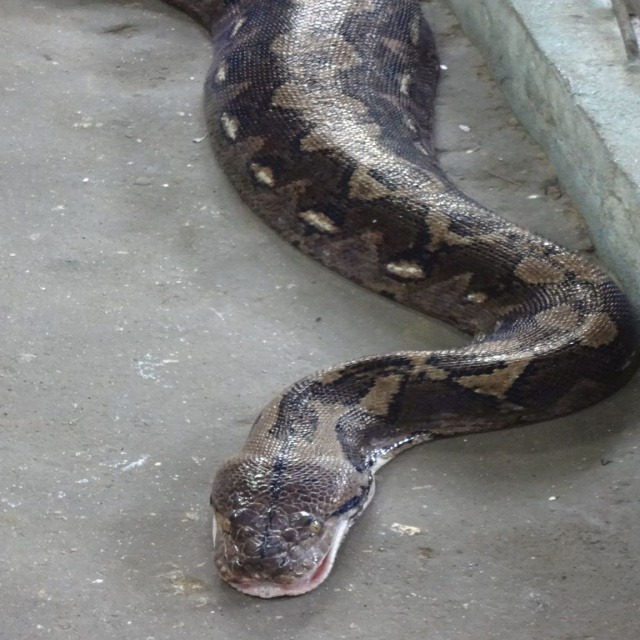Snake: (159, 0, 639, 599)
